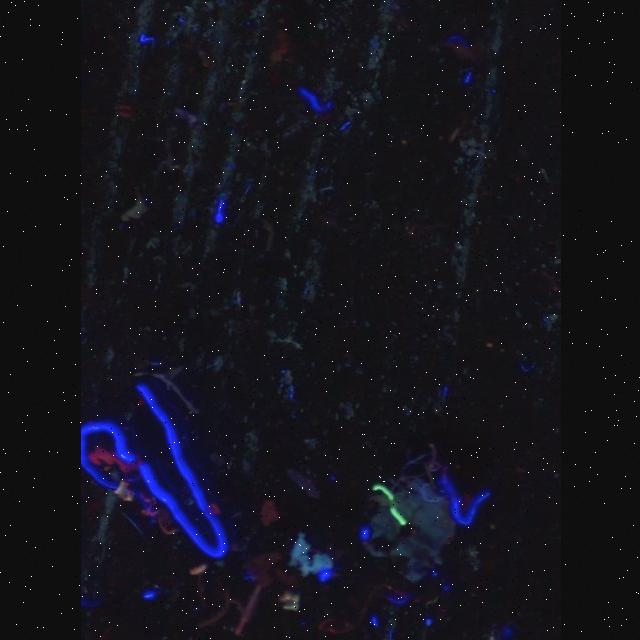Fibre: (121, 194, 146, 221)
